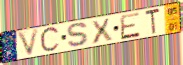C: (39, 25, 61, 55)
E: (119, 11, 141, 41)
S: (65, 22, 91, 49)
T: (144, 7, 162, 37)
V: (16, 26, 42, 58)
X: (90, 16, 115, 45)
